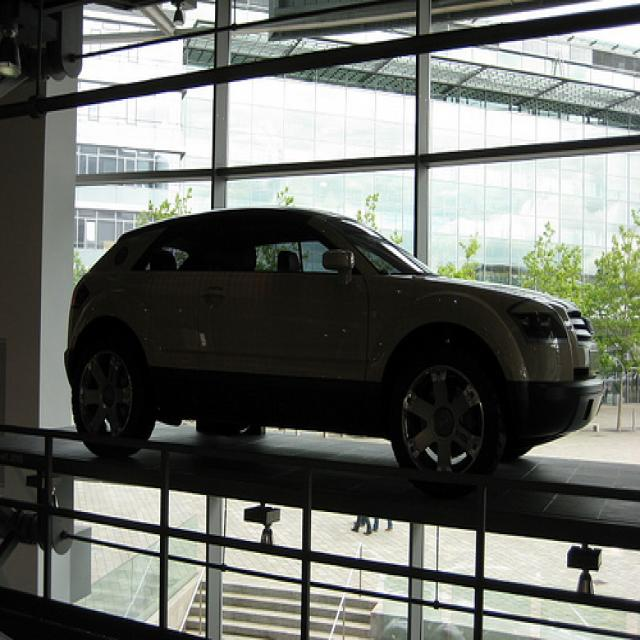Car: (60, 204, 600, 471)
